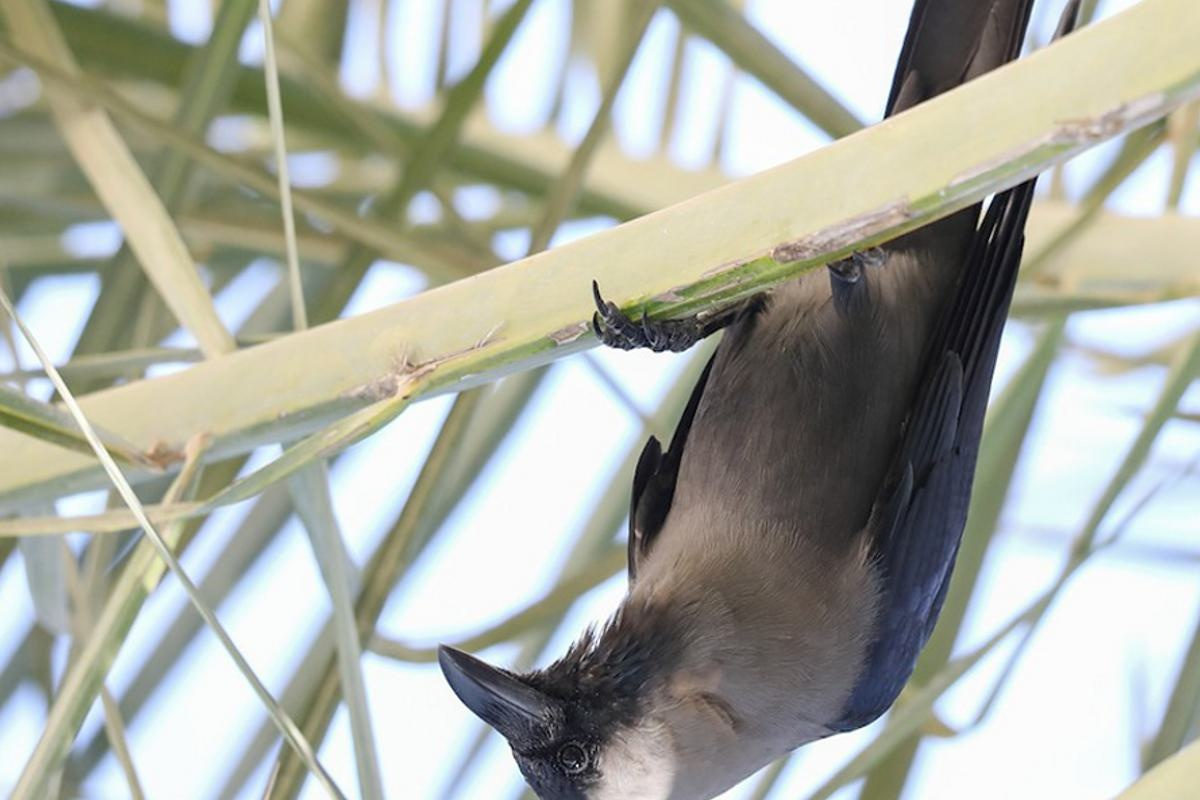crow: (433, 3, 1081, 794)
